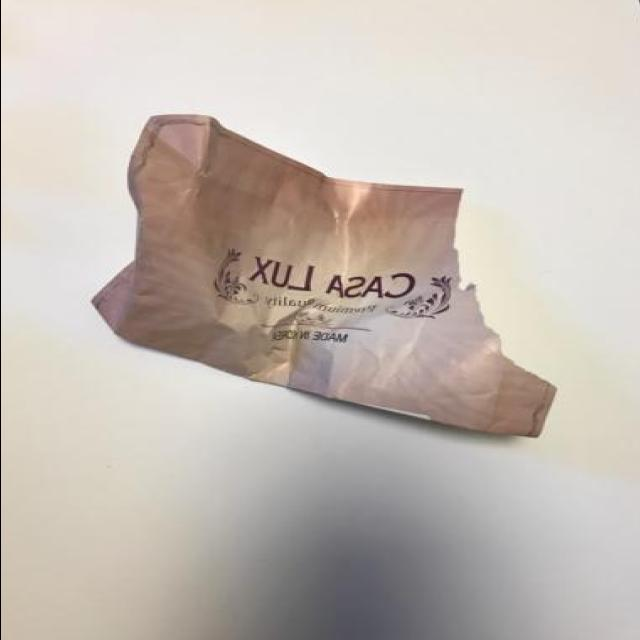kertas: (87, 114, 558, 438)
